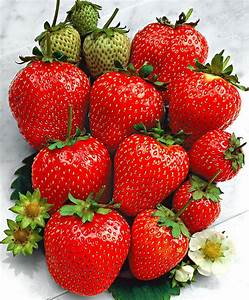Fresa: (39, 197, 136, 299), (5, 52, 96, 151), (108, 126, 194, 219), (86, 65, 173, 153), (29, 131, 115, 214), (165, 65, 246, 141), (127, 18, 213, 87), (125, 204, 194, 286), (186, 125, 248, 185), (169, 172, 224, 236)
